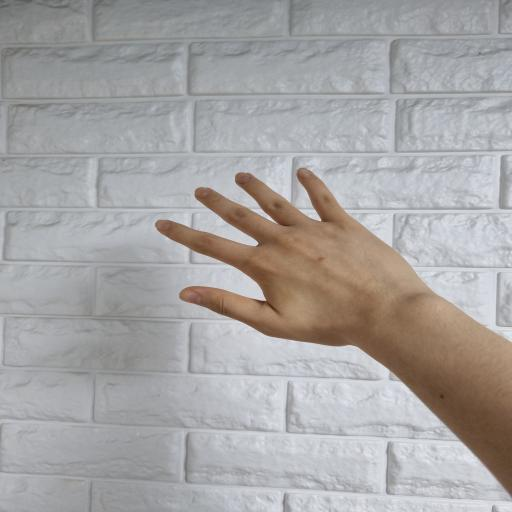Paper: (155, 168, 512, 498)
